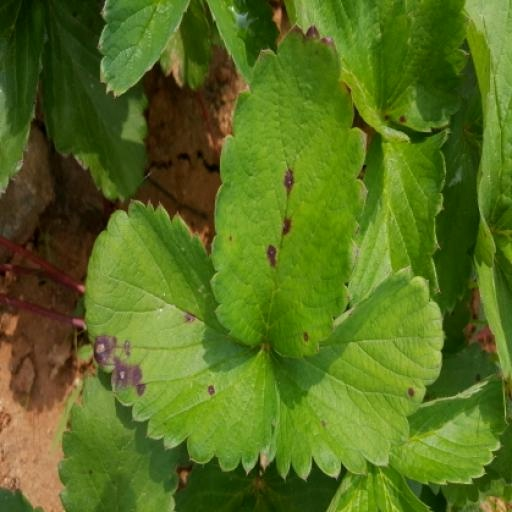Leaf Spot: (234, 198, 429, 476), (145, 24, 304, 361), (68, 265, 246, 482), (35, 0, 229, 142)
